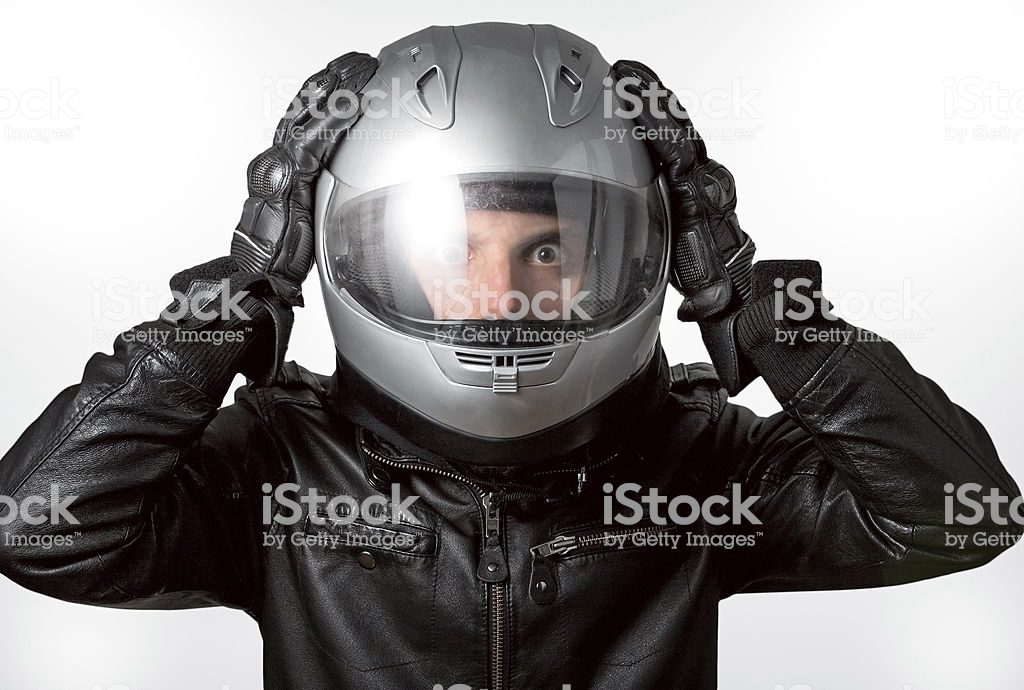helmet: (316, 38, 663, 400)
